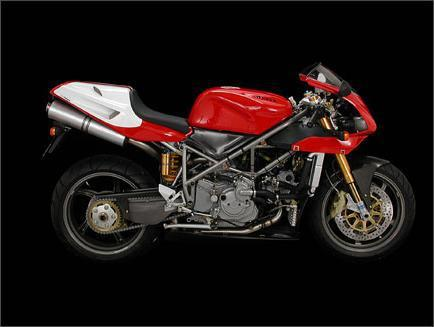motorcycle: (37, 65, 415, 269)
